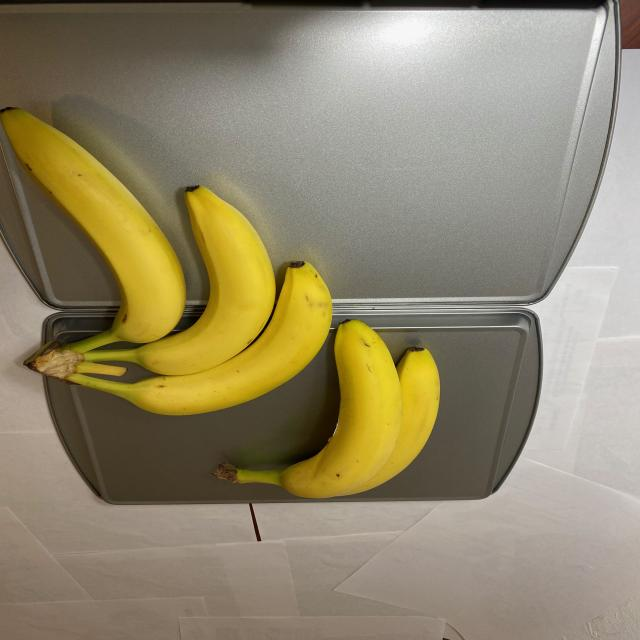banana: (2, 103, 442, 499)
